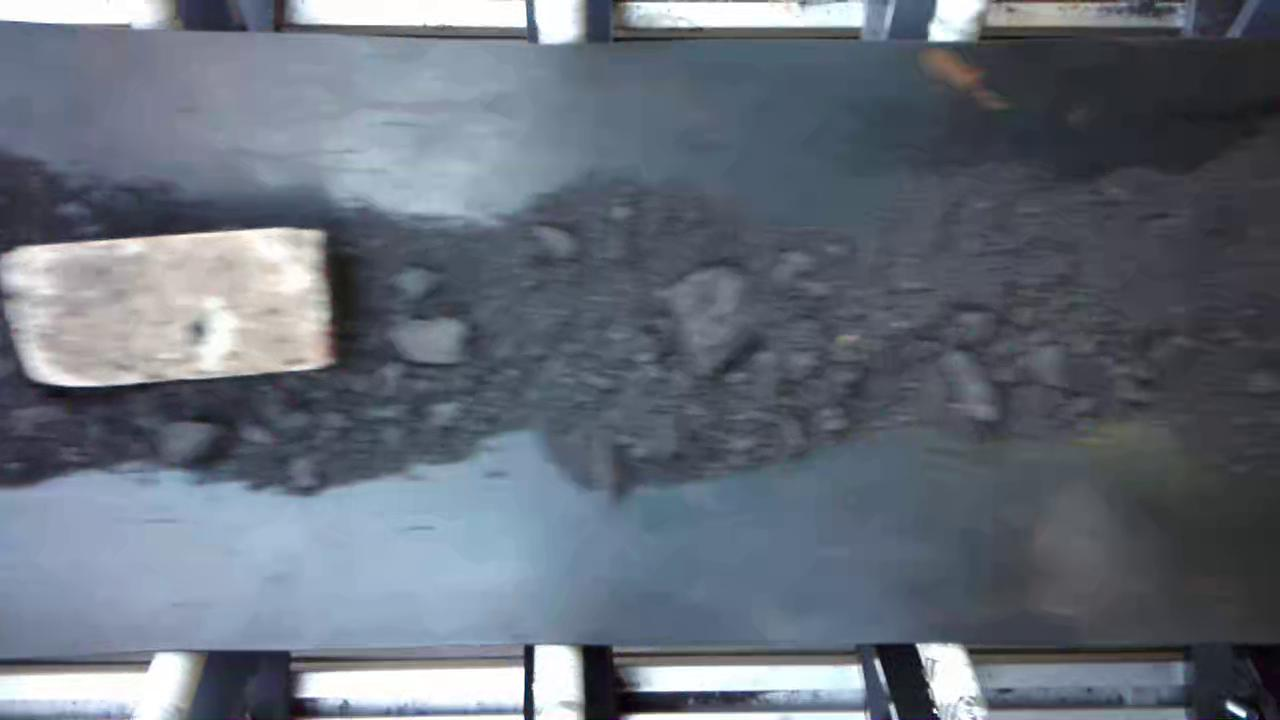conveyor: (1, 49, 1280, 631)
